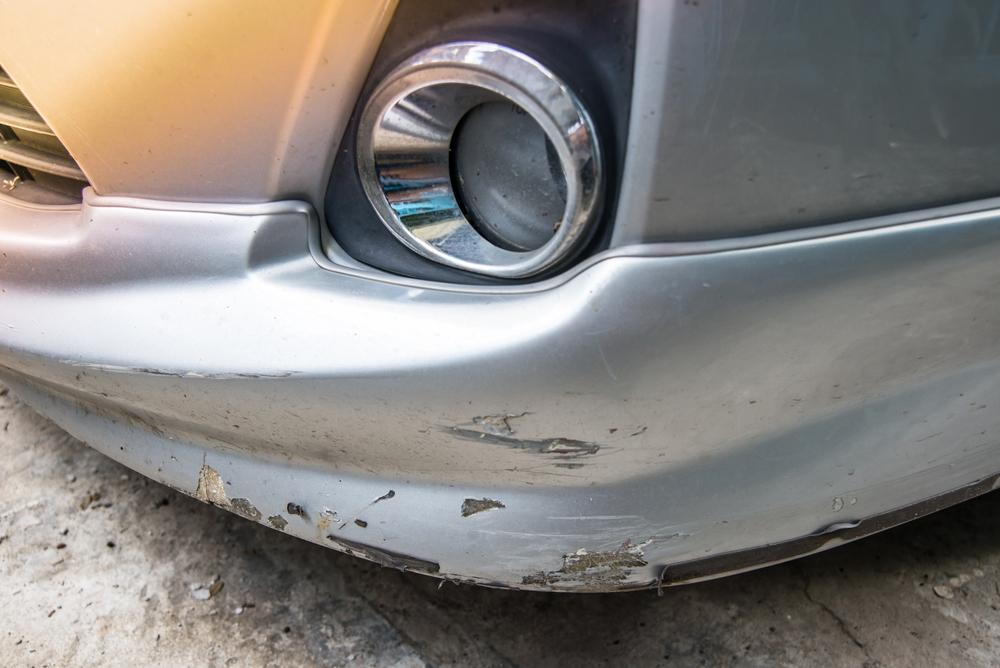scratch: (61, 351, 706, 597)
